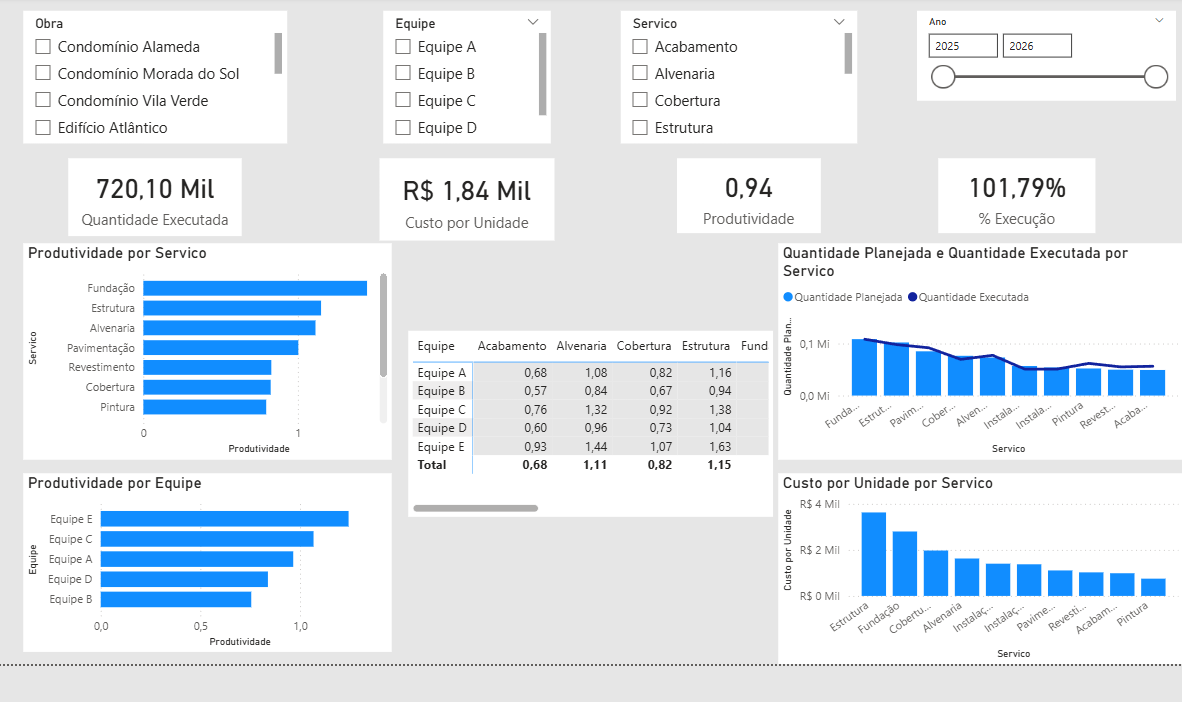

The page's visual inventory and layout, read from the dashboard file:
{"tool":"powerbi","page":{"name":"Análise Operacional","canvas":[1280,720],"ordinal":1},"visuals":[{"type":"slicer","fields":{"Values":["Dim_Obra.Obra"]},"box":[28.3,14.8,284.6,143],"z":0},{"type":"slicer","fields":{"Values":["Dim_Servico.Servico"]},"box":[673,14.8,254.9,143],"z":1000},{"type":"slicer","fields":{"Values":["Dim_Equipe.Equipe"]},"box":[416.8,14.8,180.7,143],"z":2000},{"type":"slicer","fields":{"Values":["Dim_Data.Ano"]},"box":[992.7,14.8,279.2,97.1],"z":3000},{"type":"card","fields":{"Values":["Fato_Obras.Quantidade Executada"]},"box":[76.9,174,187.5,83.6],"z":4000},{"type":"card","fields":{"Values":["Fato_Obras.Custo por Unidade"]},"box":[412.7,174,188.8,89],"z":5000},{"type":"card","fields":{"Values":["Fato_Obras.Produtividade"]},"box":[733.7,174,155.1,80.9],"z":6000},{"type":"card","fields":{"Values":["Fato_Obras.% Execução"]},"box":[1015.6,174,169.9,80.9],"z":7000},{"type":"clusteredBarChart","fields":{"Category":["Dim_Equipe.Equipe"],"Y":["Fato_Obras.Produtividade"]},"box":[28.3,513.9,397.9,192.9],"z":8000},{"type":"clusteredBarChart","fields":{"Y":["Fato_Obras.Produtividade"],"Category":["Dim_Servico.Servico"]},"box":[28.3,265.7,397.9,233.3],"z":9000},{"type":"lineClusteredColumnComboChart","fields":{"Category":["Dim_Servico.Servico"],"Y":["Fato_Obras.Custo por Unidade"]},"box":[843,513.9,437,206.4],"z":10000},{"type":"lineClusteredColumnComboChart","fields":{"Category":["Dim_Servico.Servico"],"Y":["Fato_Obras.Quantidade Planejada"],"Y2":["Fato_Obras.Quantidade Executada"]},"box":[843,265.7,437,233.3],"z":11000},{"type":"pivotTable","fields":{"Rows":["Dim_Equipe.Equipe"],"Columns":["Dim_Servico.Servico"],"Values":["Fato_Obras.Produtividade"]},"box":[443.8,360.1,393.8,201],"z":12000}]}

Visuals, with their boxes on the page's 1280x720 design canvas (x1, y1, x2, y2). These are canvas units, not pixel positions in the 1182x702 screenshot, which may show the page scaled, cropped or inside an application window:
slicer - Dim_Obra.Obra: 28,15,313,158
slicer - Dim_Servico.Servico: 673,15,928,158
slicer - Dim_Equipe.Equipe: 417,15,598,158
slicer - Dim_Data.Ano: 993,15,1272,112
card - Fato_Obras.Quantidade Executada: 77,174,264,258
card - Fato_Obras.Custo por Unidade: 413,174,602,263
card - Fato_Obras.Produtividade: 734,174,889,255
card - Fato_Obras.% Execução: 1016,174,1186,255
clusteredBarChart - Dim_Equipe.Equipe x Fato_Obras.Produtividade: 28,514,426,707
clusteredBarChart - Fato_Obras.Produtividade x Dim_Servico.Servico: 28,266,426,499
lineClusteredColumnComboChart - Dim_Servico.Servico x Fato_Obras.Custo por Unidade: 843,514,1280,720
lineClusteredColumnComboChart - Dim_Servico.Servico x Fato_Obras.Quantidade Planejada: 843,266,1280,499
pivotTable - Dim_Equipe.Equipe x Dim_Servico.Servico: 444,360,838,561
